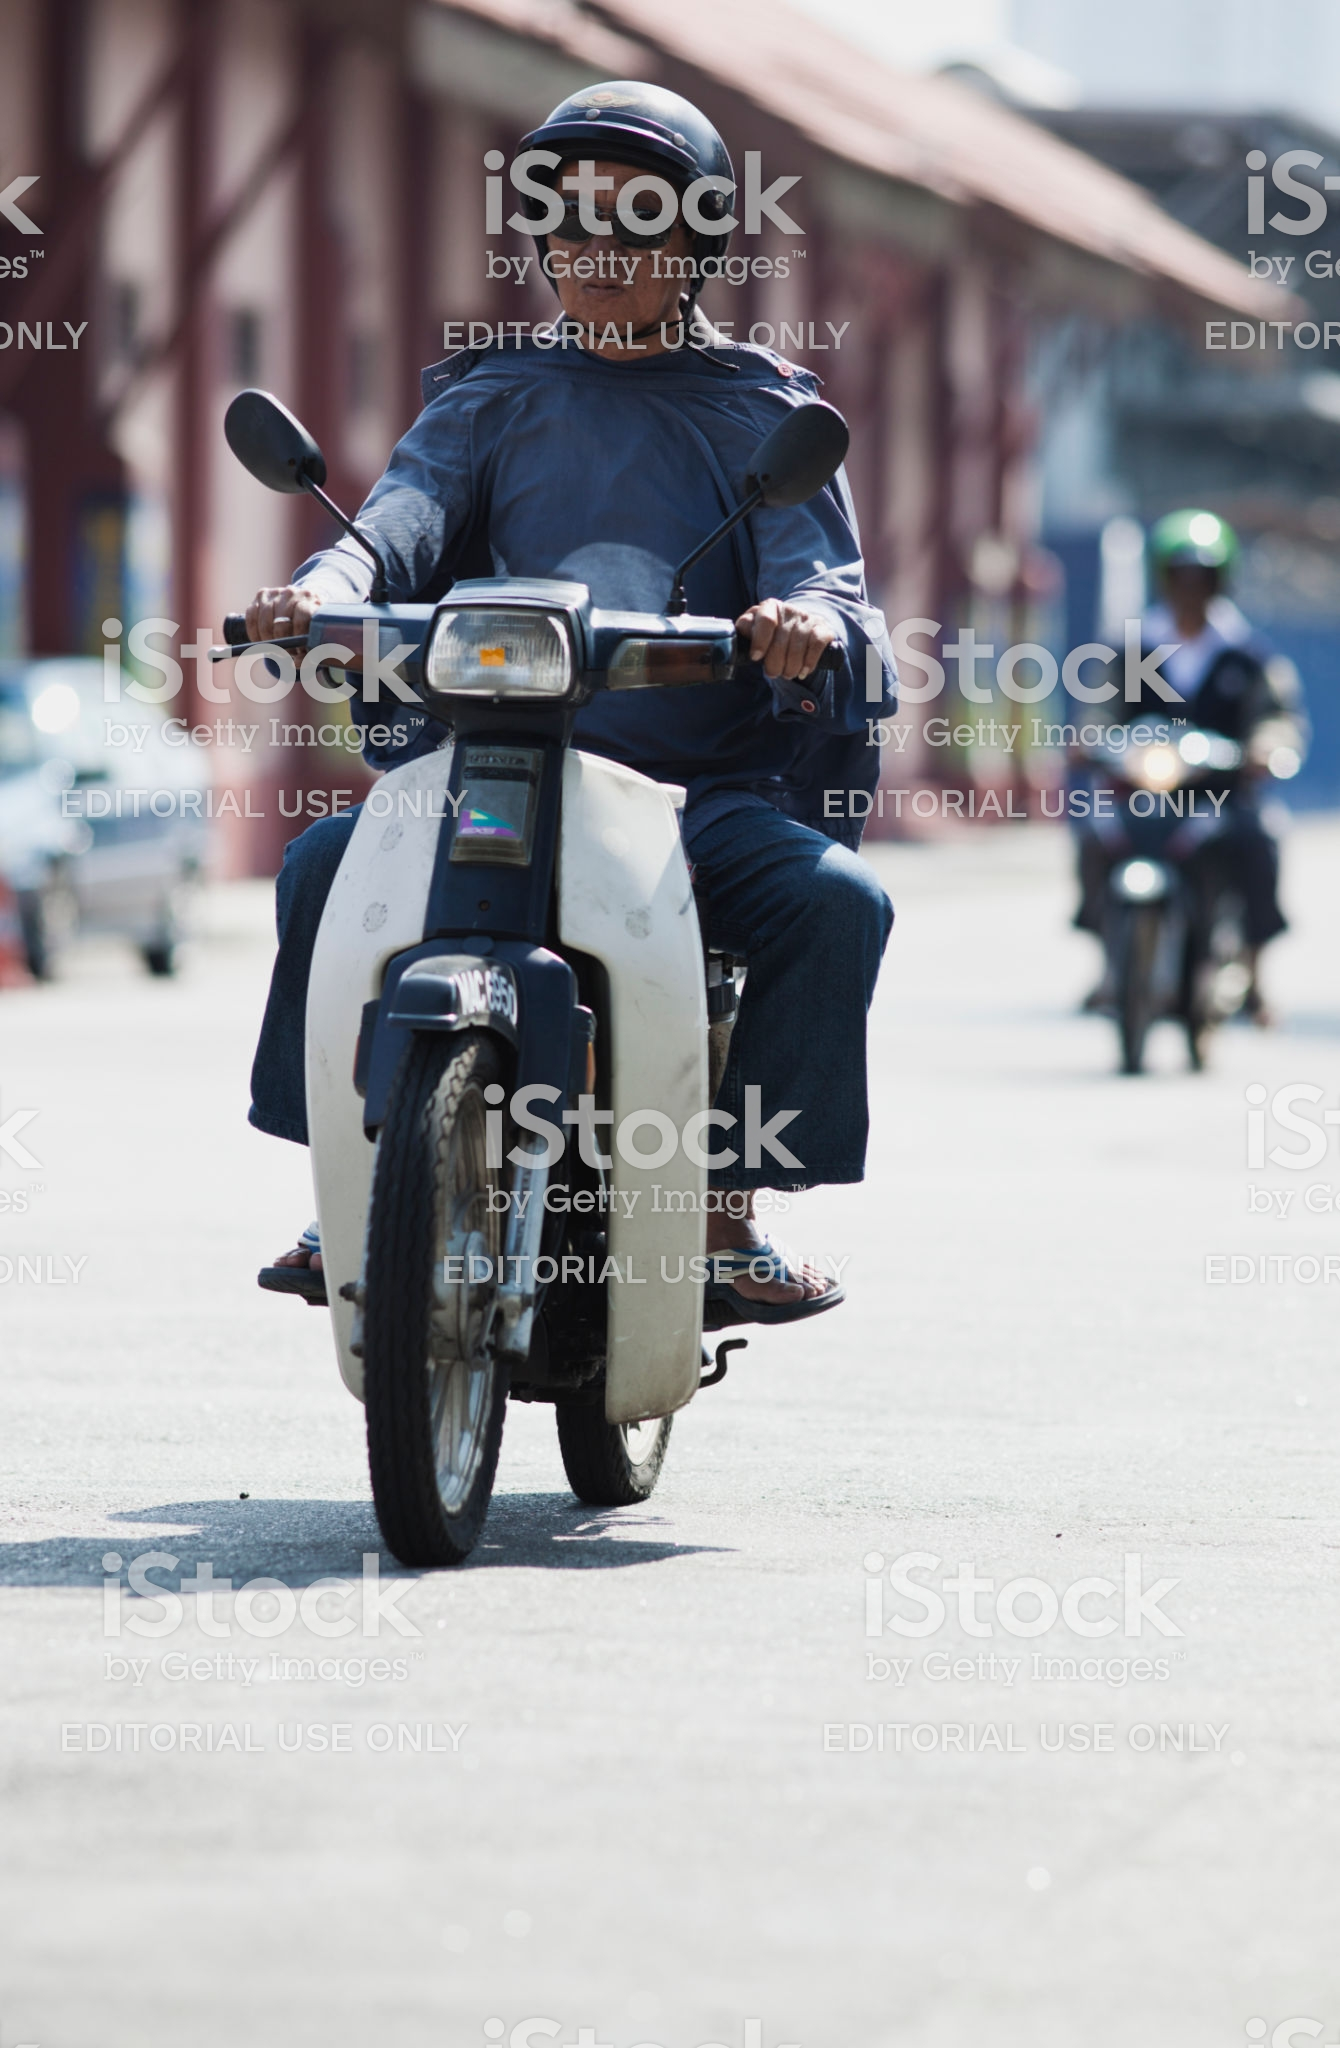helmet: (500, 37, 743, 238)
